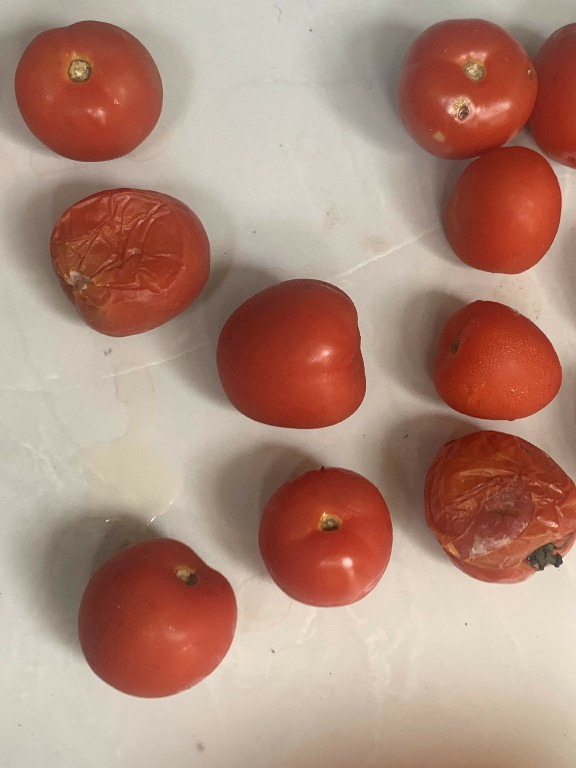NG: (47, 183, 212, 340), (425, 429, 576, 588), (396, 14, 536, 157), (442, 137, 564, 278)
OK: (74, 531, 242, 704), (214, 271, 366, 434), (11, 12, 166, 163), (253, 460, 398, 609), (426, 291, 563, 423)
